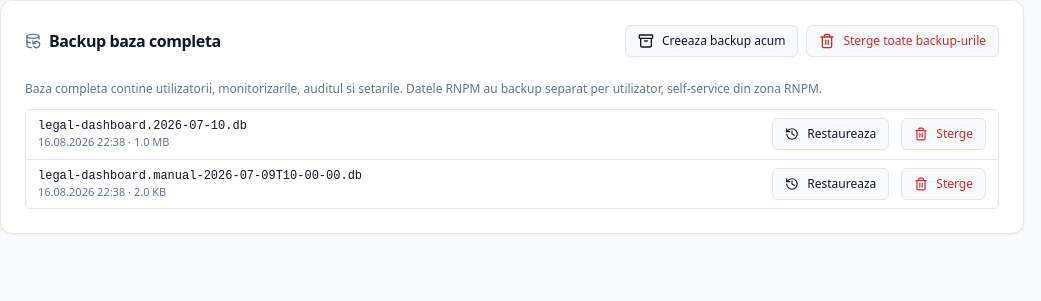
it: AdminBackups (embedded) › creeaza backup manual si afiseaza numele
Click the button "Creeaza backup acum". click: (712, 41)
box: x1=625 y1=25 x2=798 y2=57
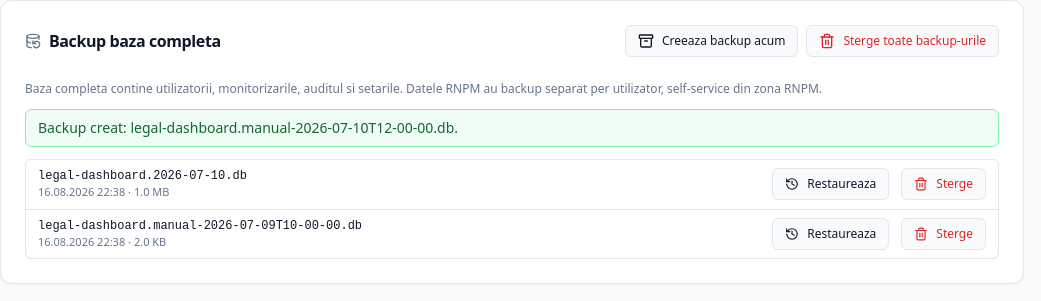
Now the text "Backup creat: legal-dashboard.manual-2026-07-10T12-00-00.db" is shown, box x1=38 y1=118 x2=458 y2=137
